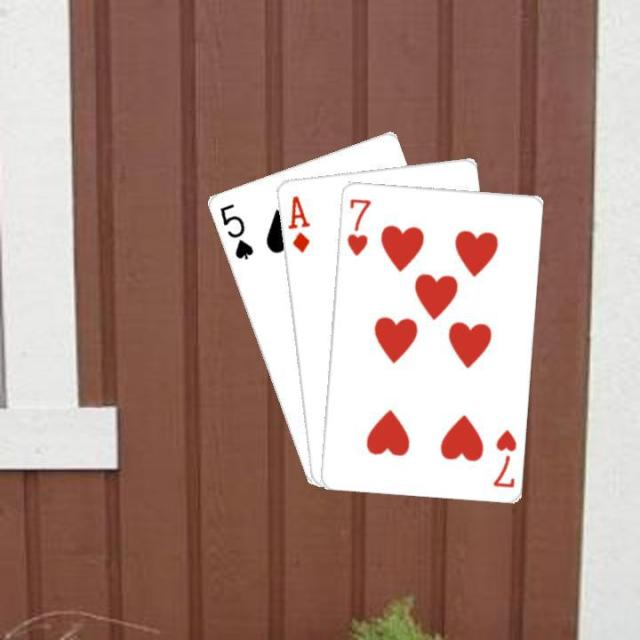5S: (215, 199, 255, 261)
7H: (342, 194, 372, 258), (489, 426, 518, 489)
AD: (284, 192, 311, 254)
